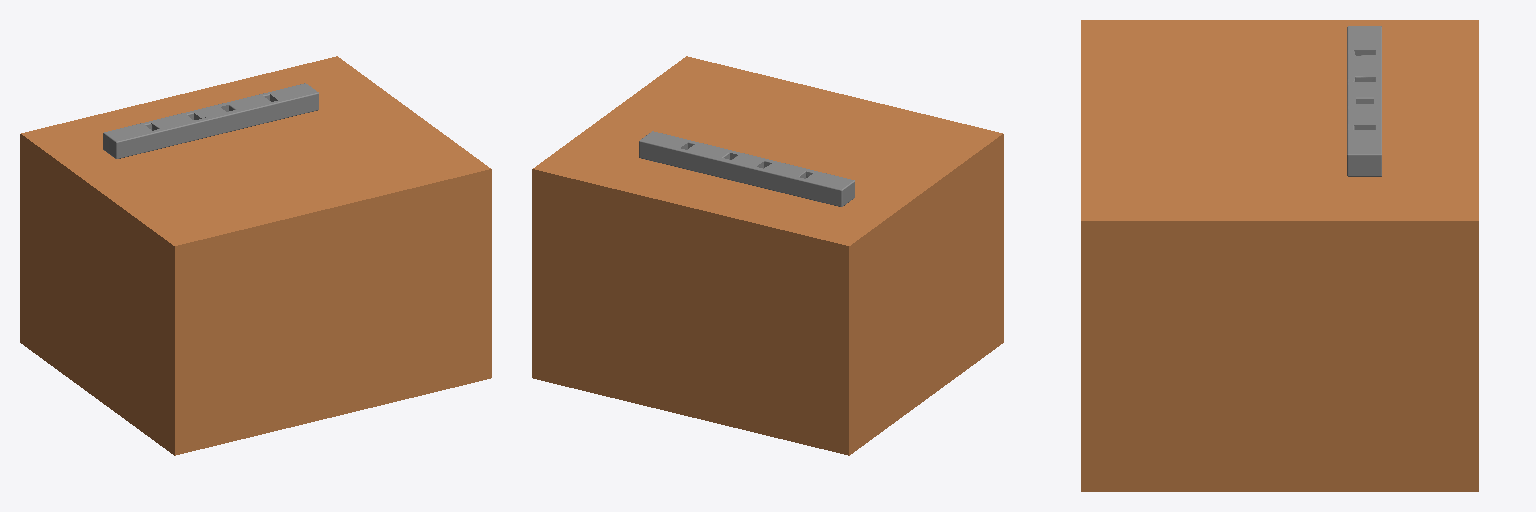
URDF robot description (table_beam_2x_2_scene_0050):
<?xml version="1.0"?>
<robot name="table_beam_2x_2_scene_0050">
  <link name="box">
    <visual>
      <material name="wood"><color rgba="0.82 0.56 0.35 1.0"/></material>
      <origin xyz="0 0 0"/>
      <geometry><box size="0.475 0.4 0.3"/></geometry>
    </visual>
    <collision>
      <origin xyz="0 0 0"/>
      <geometry><box size="0.475 0.4 0.3"/></geometry>
    </collision>
    <inertial>
      <mass value="500"/>
      <friction value="1.0"/>
      <inertia ixx="1000.0" ixy="0.0" ixz="0.0" iyy="1000.0" iyz="0.0" izz="1000.0"/>
    </inertial>
  </link>
  <link name="part_6_hull_0">
    <visual>
      <origin xyz="0 0 0" rpy="0 0 0"/>
      <geometry><mesh filename="../../6/coacd/decomp_0.obj" scale="1 1 1"/></geometry>
      <material name="placed_0"><color rgba="0.6 0.6 0.6 1.0"/></material>
    </visual>
    <collision>
      <origin xyz="0 0 0" rpy="0 0 0"/>
      <geometry><mesh filename="../../6/coacd/decomp_0.obj" scale="1 1 1"/></geometry>
    </collision>
  </link>
  <joint name="part_6_hull_0_joint" type="fixed">
    <parent link="box"/>
    <child link="part_6_hull_0"/>
    <origin xyz="-0.017913 0.084990 0.162666" rpy="0.000000 0.000000 0.000000"/>
  </joint>
  <link name="part_6_hull_1">
    <visual>
      <origin xyz="0 0 0" rpy="0 0 0"/>
      <geometry><mesh filename="../../6/coacd/decomp_1.obj" scale="1 1 1"/></geometry>
      <material name="placed_1"><color rgba="0.6 0.6 0.6 1.0"/></material>
    </visual>
    <collision>
      <origin xyz="0 0 0" rpy="0 0 0"/>
      <geometry><mesh filename="../../6/coacd/decomp_1.obj" scale="1 1 1"/></geometry>
    </collision>
  </link>
  <joint name="part_6_hull_1_joint" type="fixed">
    <parent link="box"/>
    <child link="part_6_hull_1"/>
    <origin xyz="-0.017913 0.084990 0.162666" rpy="0.000000 0.000000 0.000000"/>
  </joint>
  <link name="part_6_hull_2">
    <visual>
      <origin xyz="0 0 0" rpy="0 0 0"/>
      <geometry><mesh filename="../../6/coacd/decomp_10.obj" scale="1 1 1"/></geometry>
      <material name="placed_2"><color rgba="0.6 0.6 0.6 1.0"/></material>
    </visual>
    <collision>
      <origin xyz="0 0 0" rpy="0 0 0"/>
      <geometry><mesh filename="../../6/coacd/decomp_10.obj" scale="1 1 1"/></geometry>
    </collision>
  </link>
  <joint name="part_6_hull_2_joint" type="fixed">
    <parent link="box"/>
    <child link="part_6_hull_2"/>
    <origin xyz="-0.017913 0.084990 0.162666" rpy="0.000000 0.000000 0.000000"/>
  </joint>
  <link name="part_6_hull_3">
    <visual>
      <origin xyz="0 0 0" rpy="0 0 0"/>
      <geometry><mesh filename="../../6/coacd/decomp_11.obj" scale="1 1 1"/></geometry>
      <material name="placed_3"><color rgba="0.6 0.6 0.6 1.0"/></material>
    </visual>
    <collision>
      <origin xyz="0 0 0" rpy="0 0 0"/>
      <geometry><mesh filename="../../6/coacd/decomp_11.obj" scale="1 1 1"/></geometry>
    </collision>
  </link>
  <joint name="part_6_hull_3_joint" type="fixed">
    <parent link="box"/>
    <child link="part_6_hull_3"/>
    <origin xyz="-0.017913 0.084990 0.162666" rpy="0.000000 0.000000 0.000000"/>
  </joint>
  <link name="part_6_hull_4">
    <visual>
      <origin xyz="0 0 0" rpy="0 0 0"/>
      <geometry><mesh filename="../../6/coacd/decomp_12.obj" scale="1 1 1"/></geometry>
      <material name="placed_4"><color rgba="0.6 0.6 0.6 1.0"/></material>
    </visual>
    <collision>
      <origin xyz="0 0 0" rpy="0 0 0"/>
      <geometry><mesh filename="../../6/coacd/decomp_12.obj" scale="1 1 1"/></geometry>
    </collision>
  </link>
  <joint name="part_6_hull_4_joint" type="fixed">
    <parent link="box"/>
    <child link="part_6_hull_4"/>
    <origin xyz="-0.017913 0.084990 0.162666" rpy="0.000000 0.000000 0.000000"/>
  </joint>
  <link name="part_6_hull_5">
    <visual>
      <origin xyz="0 0 0" rpy="0 0 0"/>
      <geometry><mesh filename="../../6/coacd/decomp_13.obj" scale="1 1 1"/></geometry>
      <material name="placed_5"><color rgba="0.6 0.6 0.6 1.0"/></material>
    </visual>
    <collision>
      <origin xyz="0 0 0" rpy="0 0 0"/>
      <geometry><mesh filename="../../6/coacd/decomp_13.obj" scale="1 1 1"/></geometry>
    </collision>
  </link>
  <joint name="part_6_hull_5_joint" type="fixed">
    <parent link="box"/>
    <child link="part_6_hull_5"/>
    <origin xyz="-0.017913 0.084990 0.162666" rpy="0.000000 0.000000 0.000000"/>
  </joint>
  <link name="part_6_hull_6">
    <visual>
      <origin xyz="0 0 0" rpy="0 0 0"/>
      <geometry><mesh filename="../../6/coacd/decomp_2.obj" scale="1 1 1"/></geometry>
      <material name="placed_6"><color rgba="0.6 0.6 0.6 1.0"/></material>
    </visual>
    <collision>
      <origin xyz="0 0 0" rpy="0 0 0"/>
      <geometry><mesh filename="../../6/coacd/decomp_2.obj" scale="1 1 1"/></geometry>
    </collision>
  </link>
  <joint name="part_6_hull_6_joint" type="fixed">
    <parent link="box"/>
    <child link="part_6_hull_6"/>
    <origin xyz="-0.017913 0.084990 0.162666" rpy="0.000000 0.000000 0.000000"/>
  </joint>
  <link name="part_6_hull_7">
    <visual>
      <origin xyz="0 0 0" rpy="0 0 0"/>
      <geometry><mesh filename="../../6/coacd/decomp_3.obj" scale="1 1 1"/></geometry>
      <material name="placed_7"><color rgba="0.6 0.6 0.6 1.0"/></material>
    </visual>
    <collision>
      <origin xyz="0 0 0" rpy="0 0 0"/>
      <geometry><mesh filename="../../6/coacd/decomp_3.obj" scale="1 1 1"/></geometry>
    </collision>
  </link>
  <joint name="part_6_hull_7_joint" type="fixed">
    <parent link="box"/>
    <child link="part_6_hull_7"/>
    <origin xyz="-0.017913 0.084990 0.162666" rpy="0.000000 0.000000 0.000000"/>
  </joint>
  <link name="part_6_hull_8">
    <visual>
      <origin xyz="0 0 0" rpy="0 0 0"/>
      <geometry><mesh filename="../../6/coacd/decomp_4.obj" scale="1 1 1"/></geometry>
      <material name="placed_8"><color rgba="0.6 0.6 0.6 1.0"/></material>
    </visual>
    <collision>
      <origin xyz="0 0 0" rpy="0 0 0"/>
      <geometry><mesh filename="../../6/coacd/decomp_4.obj" scale="1 1 1"/></geometry>
    </collision>
  </link>
  <joint name="part_6_hull_8_joint" type="fixed">
    <parent link="box"/>
    <child link="part_6_hull_8"/>
    <origin xyz="-0.017913 0.084990 0.162666" rpy="0.000000 0.000000 0.000000"/>
  </joint>
  <link name="part_6_hull_9">
    <visual>
      <origin xyz="0 0 0" rpy="0 0 0"/>
      <geometry><mesh filename="../../6/coacd/decomp_5.obj" scale="1 1 1"/></geometry>
      <material name="placed_9"><color rgba="0.6 0.6 0.6 1.0"/></material>
    </visual>
    <collision>
      <origin xyz="0 0 0" rpy="0 0 0"/>
      <geometry><mesh filename="../../6/coacd/decomp_5.obj" scale="1 1 1"/></geometry>
    </collision>
  </link>
  <joint name="part_6_hull_9_joint" type="fixed">
    <parent link="box"/>
    <child link="part_6_hull_9"/>
    <origin xyz="-0.017913 0.084990 0.162666" rpy="0.000000 0.000000 0.000000"/>
  </joint>
  <link name="part_6_hull_10">
    <visual>
      <origin xyz="0 0 0" rpy="0 0 0"/>
      <geometry><mesh filename="../../6/coacd/decomp_6.obj" scale="1 1 1"/></geometry>
      <material name="placed_10"><color rgba="0.6 0.6 0.6 1.0"/></material>
    </visual>
    <collision>
      <origin xyz="0 0 0" rpy="0 0 0"/>
      <geometry><mesh filename="../../6/coacd/decomp_6.obj" scale="1 1 1"/></geometry>
    </collision>
  </link>
  <joint name="part_6_hull_10_joint" type="fixed">
    <parent link="box"/>
    <child link="part_6_hull_10"/>
    <origin xyz="-0.017913 0.084990 0.162666" rpy="0.000000 0.000000 0.000000"/>
  </joint>
  <link name="part_6_hull_11">
    <visual>
      <origin xyz="0 0 0" rpy="0 0 0"/>
      <geometry><mesh filename="../../6/coacd/decomp_7.obj" scale="1 1 1"/></geometry>
      <material name="placed_11"><color rgba="0.6 0.6 0.6 1.0"/></material>
    </visual>
    <collision>
      <origin xyz="0 0 0" rpy="0 0 0"/>
      <geometry><mesh filename="../../6/coacd/decomp_7.obj" scale="1 1 1"/></geometry>
    </collision>
  </link>
  <joint name="part_6_hull_11_joint" type="fixed">
    <parent link="box"/>
    <child link="part_6_hull_11"/>
    <origin xyz="-0.017913 0.084990 0.162666" rpy="0.000000 0.000000 0.000000"/>
  </joint>
  <link name="part_6_hull_12">
    <visual>
      <origin xyz="0 0 0" rpy="0 0 0"/>
      <geometry><mesh filename="../../6/coacd/decomp_8.obj" scale="1 1 1"/></geometry>
      <material name="placed_12"><color rgba="0.6 0.6 0.6 1.0"/></material>
    </visual>
    <collision>
      <origin xyz="0 0 0" rpy="0 0 0"/>
      <geometry><mesh filename="../../6/coacd/decomp_8.obj" scale="1 1 1"/></geometry>
    </collision>
  </link>
  <joint name="part_6_hull_12_joint" type="fixed">
    <parent link="box"/>
    <child link="part_6_hull_12"/>
    <origin xyz="-0.017913 0.084990 0.162666" rpy="0.000000 0.000000 0.000000"/>
  </joint>
  <link name="part_6_hull_13">
    <visual>
      <origin xyz="0 0 0" rpy="0 0 0"/>
      <geometry><mesh filename="../../6/coacd/decomp_9.obj" scale="1 1 1"/></geometry>
      <material name="placed_13"><color rgba="0.6 0.6 0.6 1.0"/></material>
    </visual>
    <collision>
      <origin xyz="0 0 0" rpy="0 0 0"/>
      <geometry><mesh filename="../../6/coacd/decomp_9.obj" scale="1 1 1"/></geometry>
    </collision>
  </link>
  <joint name="part_6_hull_13_joint" type="fixed">
    <parent link="box"/>
    <child link="part_6_hull_13"/>
    <origin xyz="-0.017913 0.084990 0.162666" rpy="0.000000 0.000000 0.000000"/>
  </joint>
</robot>

--- What the picture shows (computed from the rendered views, not written in the file) ---
Views: 3 orthographic renders of the robot side by side, from view 1: azimuth 30°, elevation 25°; view 2: azimuth 150°, elevation 25°; view 3: azimuth 270°, elevation 25°.
Robot: table_beam_2x_2_scene_0050 — 15 links, 14 joints (14 fixed); root link box; default pose: all joints at 0.
Links seen in each view (by area): view 1: box, part_6_hull_1, part_6_hull_0, part_6_hull_9, part_6_hull_5, part_6_hull_3; view 2: box, part_6_hull_1, part_6_hull_0, part_6_hull_2, part_6_hull_12, part_6_hull_5; view 3: box, part_6_hull_0, part_6_hull_1, part_6_hull_5, part_6_hull_2.
Boxes of the visible links, bbox=[...] form: box: bbox=[20, 56, 491, 455]; part_6_hull_1: bbox=[103, 123, 154, 158]; part_6_hull_0: bbox=[268, 83, 318, 118]; part_6_hull_9: bbox=[154, 119, 204, 149]; part_6_hull_5: bbox=[235, 94, 273, 127]; part_6_hull_3: bbox=[205, 108, 246, 136]; box: bbox=[532, 56, 1003, 455]; part_6_hull_1: bbox=[803, 171, 854, 206]; part_6_hull_0: bbox=[639, 131, 690, 166]; part_6_hull_2: bbox=[761, 163, 805, 195]; part_6_hull_12: bbox=[711, 156, 752, 184]; part_6_hull_5: bbox=[685, 142, 723, 174]; box: bbox=[1081, 20, 1478, 491]; part_6_hull_0: bbox=[1347, 130, 1381, 176]; part_6_hull_1: bbox=[1347, 26, 1381, 55]; part_6_hull_5: bbox=[1347, 108, 1381, 129]; part_6_hull_2: bbox=[1356, 55, 1381, 81].
Size in the robot's own frame: 0.475 by 0.4 by 0.3254 metres.
14 mesh visuals loaded from 14 distinct referenced files (14 OBJ).
